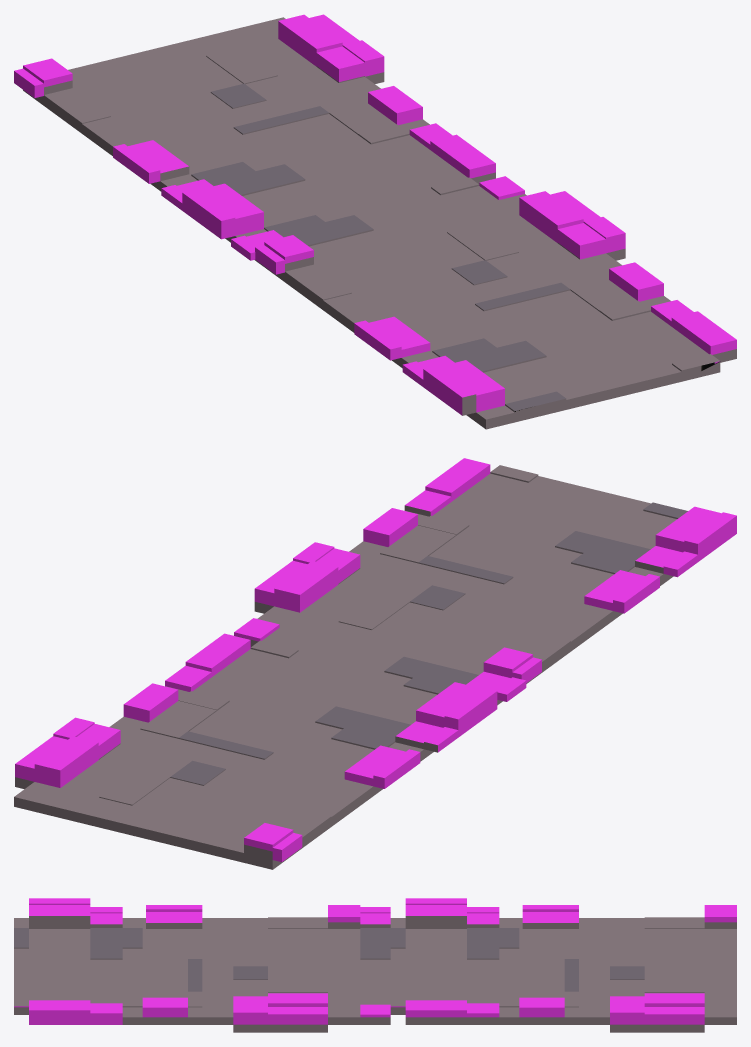
Rendered from floor.gltf.
The picture shows the model from 3 angles, top to bottom: view 1: azimuth 30°, elevation 25°; view 2: azimuth 150°, elevation 25°; view 3: azimuth 270°, elevation 25°; orthographic projection. The views are drawn at different scales.
Parts seen in each view (by area): view 1: Floor; view 2: Floor; view 3: Floor.
Boxes of the visible parts, x1,y1,x2,y2 form: Floor: [14, 14, 736, 429]; Floor: [14, 458, 736, 869]; Floor: [14, 898, 736, 1032].
Bounding box in the file's own units: 26.68 × 2.45 × 72.79.
Materials: 1 (1 with a texture image).
